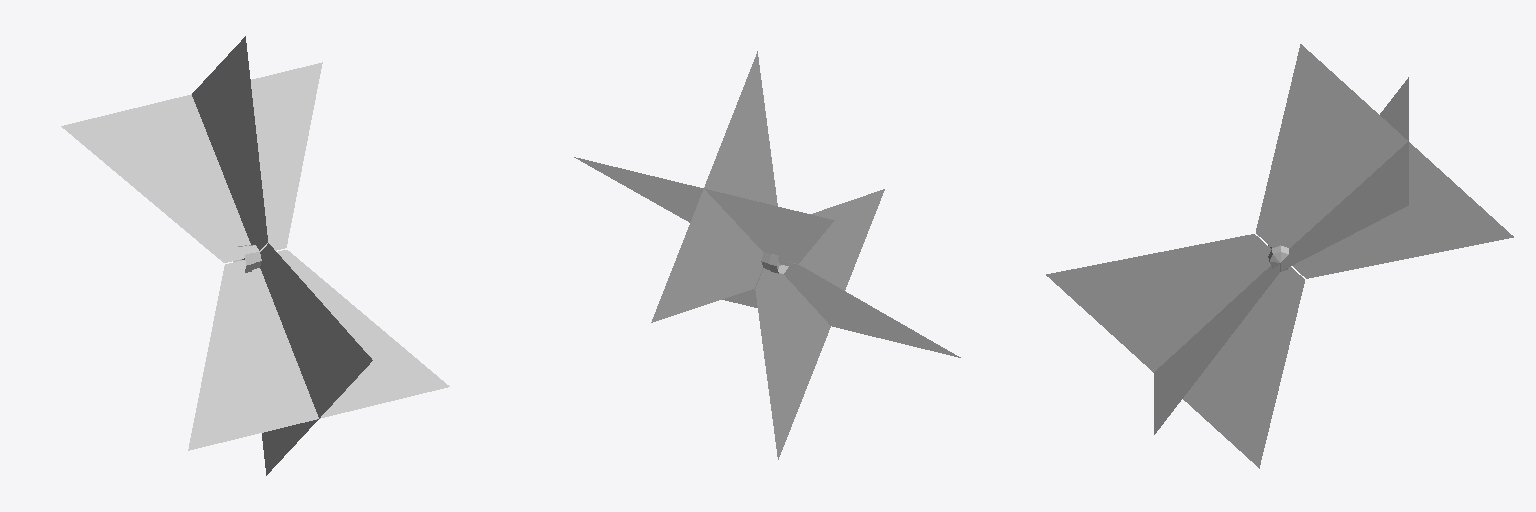
The model's file is stg400_MotRotlightA_w2_23.obj.
The picture shows the model from 3 angles: view 1: azimuth 30°, elevation 25°; view 2: azimuth 150°, elevation 25°; view 3: azimuth 270°, elevation 25°; orthographic projection.
Parts seen in each view (by area): view 1: polygon4; view 2: polygon4; view 3: polygon4.
Boxes of the visible parts, x1=… form: polygon4: x1=61, y1=36, x2=449, y2=475; polygon4: x1=574, y1=51, x2=960, y2=459; polygon4: x1=1046, y1=44, x2=1513, y2=468.
Size of the model in its own units: 91.26 by 141 by 141.